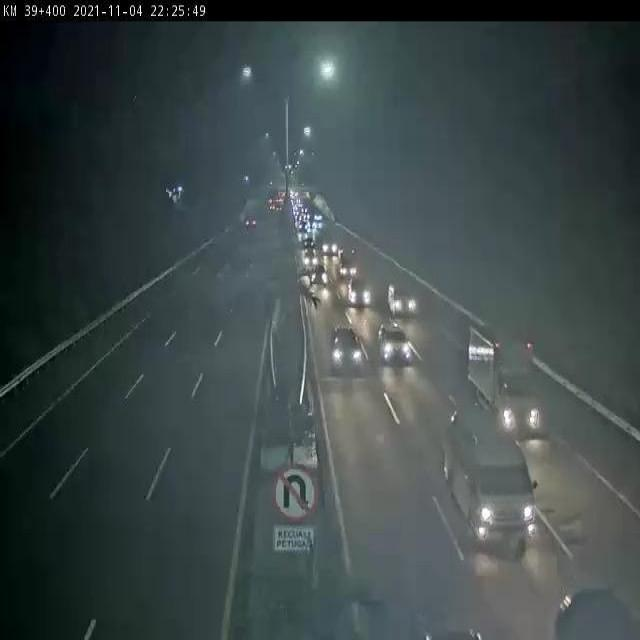car: (436, 397, 538, 555), (376, 322, 425, 374), (325, 317, 365, 379), (383, 273, 432, 320), (346, 276, 374, 316), (339, 247, 363, 280), (311, 260, 331, 297)
truck-s-: (473, 327, 550, 436)
